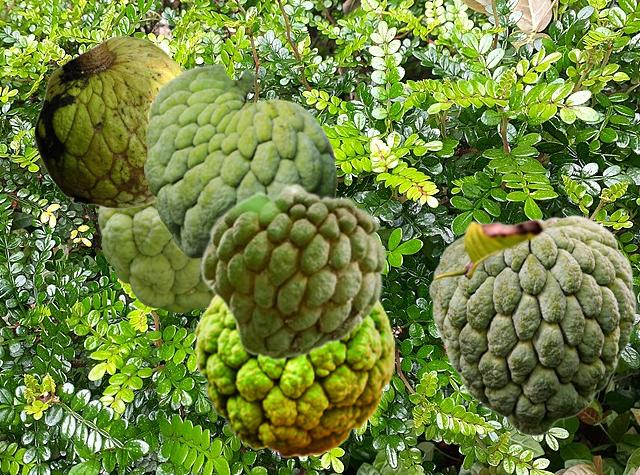atis: (428, 214, 635, 435), (144, 63, 336, 261), (198, 182, 386, 360), (194, 294, 393, 457), (33, 35, 185, 208), (98, 203, 212, 312)
